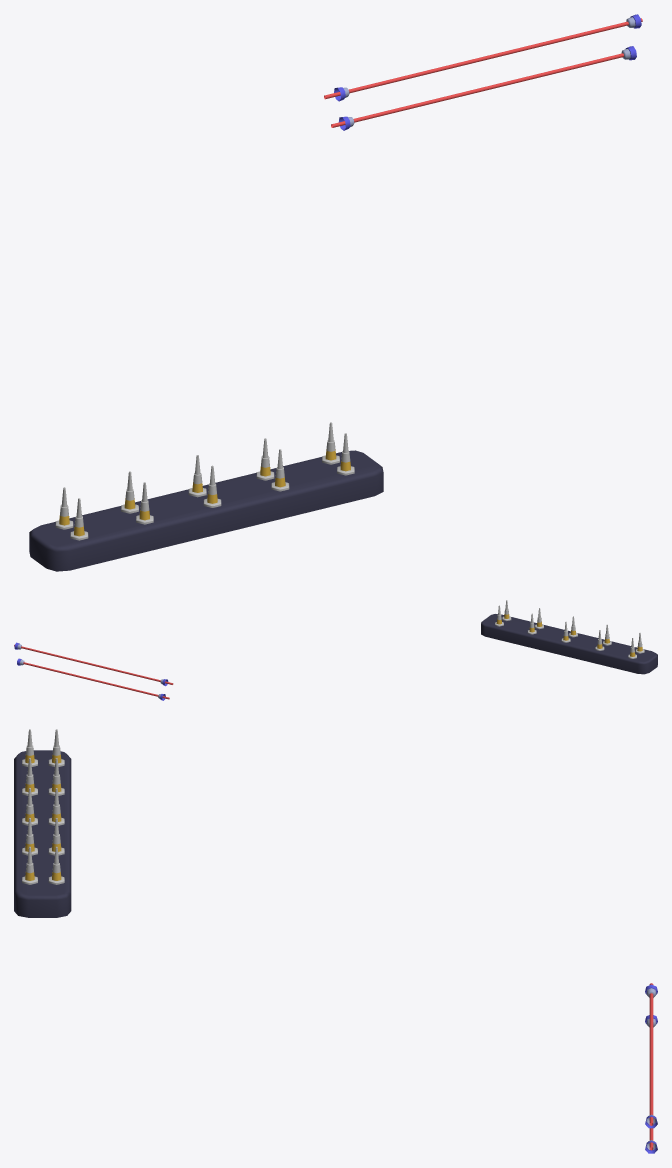
The model's file is Level25_Objects.fbx.
3 views of the same model, one above another, from view 1: azimuth 30°, elevation 25°; view 2: azimuth 150°, elevation 25°; view 3: azimuth 270°, elevation 25° (orthographic). The views are drawn at different scales.
Visible parts, largest first — view 1: Base, Laser, Laser5; view 2: Base, Laser, Laser5; view 3: Base, Laser.
Part boxes in pixels (x1,y1,x2,y2): Base: [29, 450, 383, 571]; Laser: [324, 18, 642, 99]; Laser5: [331, 53, 623, 127]; Base: [481, 614, 657, 674]; Laser: [14, 644, 173, 684]; Laser5: [23, 662, 169, 699]; Base: [14, 750, 71, 917]; Laser: [649, 983, 653, 1125].
Bounding box in the file's own units: 282 × 20.88 × 185.
